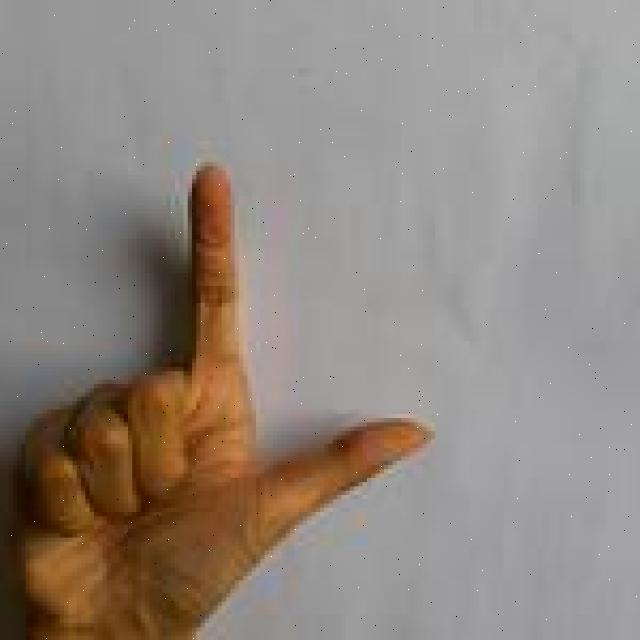L: (0, 151, 438, 640)
